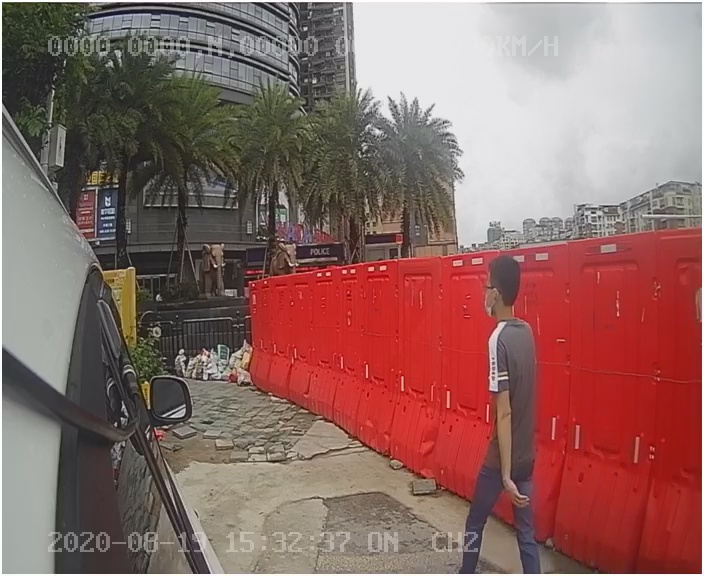person: (445, 254, 557, 521)
